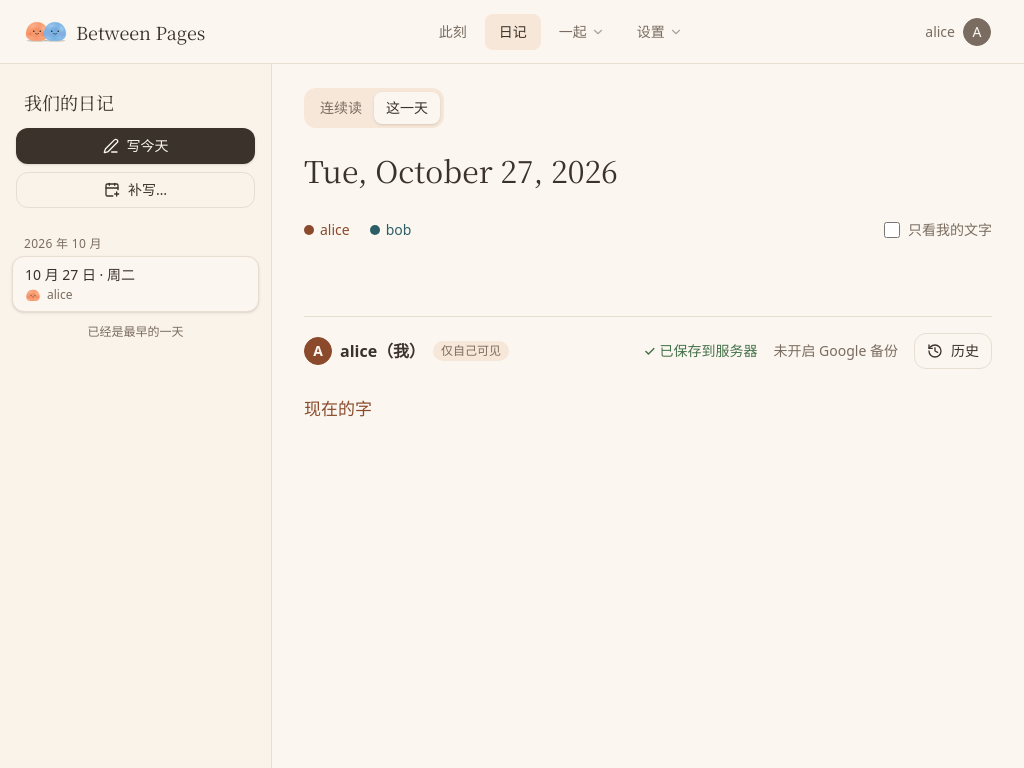
it: a diary in 这一天 › [adr:diary-collaboration-kernel#4] previews history read-only and returns to the untouched current text
Check: the text "已保存到服务器" is shown, box [644,341,758,361]
Click the button "历史" at point(953, 351), box [914,333,992,369]
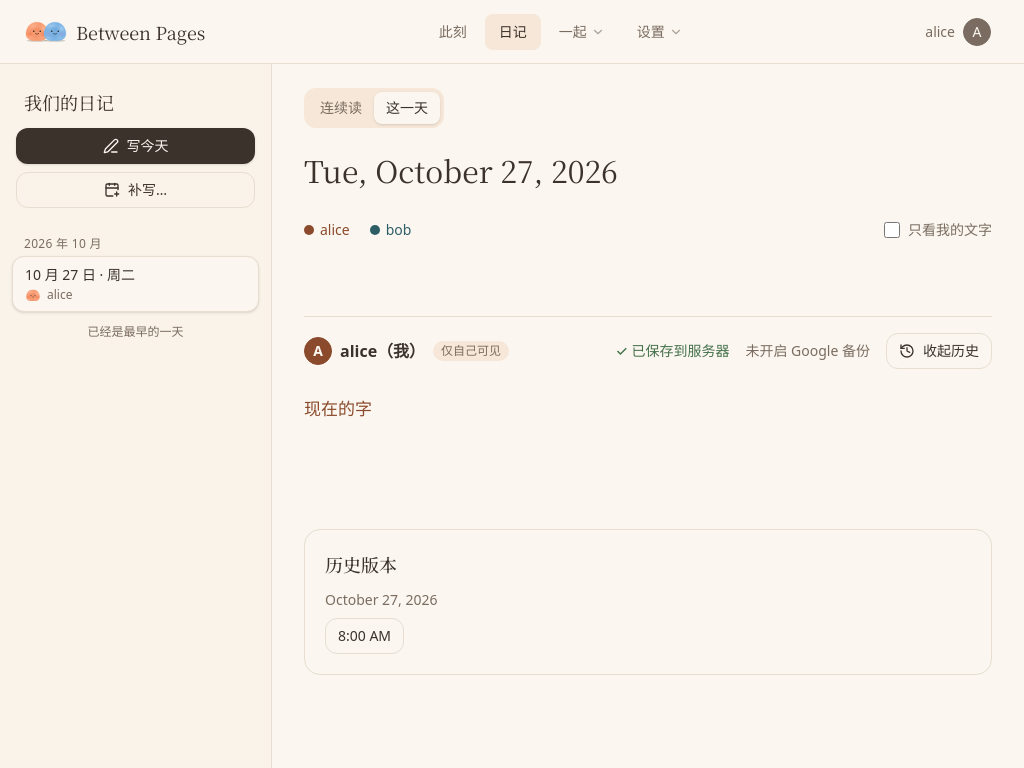
Click the button "8:00 AM" at point(365, 636), box [325,618,404,654]
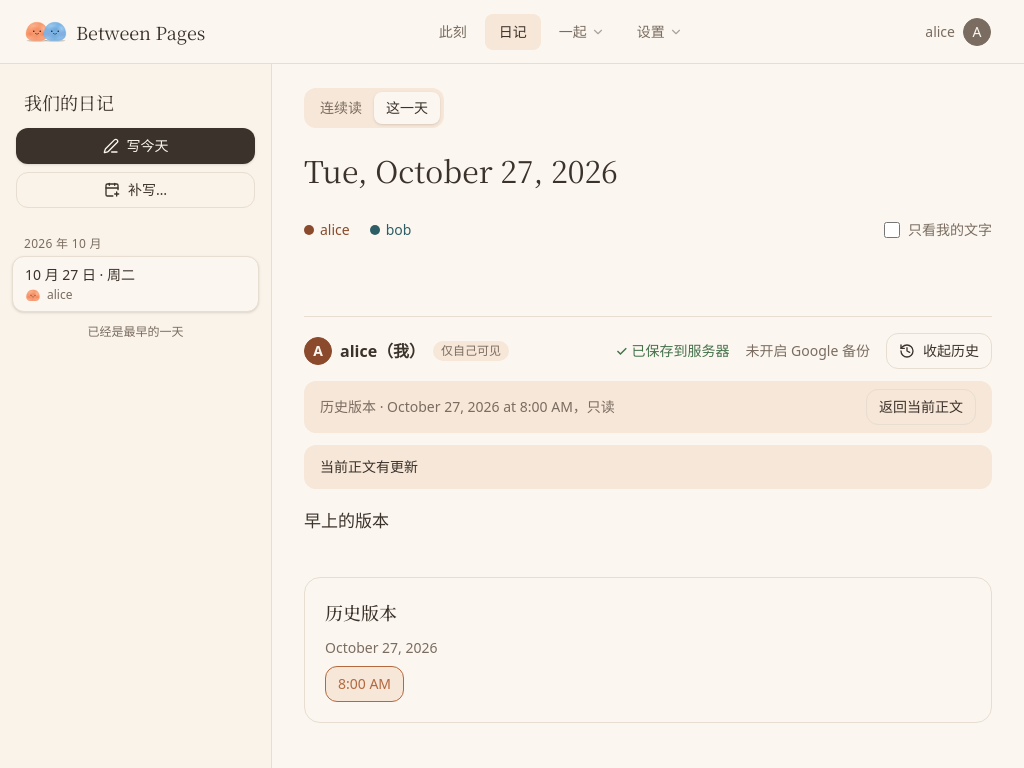
Check: the field is gone
Check: the text "当前正文有更新" is shown, box [304,445,992,489]
Check: the text "早上的版本" is shown, box [304,509,389,532]
Click the button "返回当前正文" at point(921, 407), box [866,389,976,425]
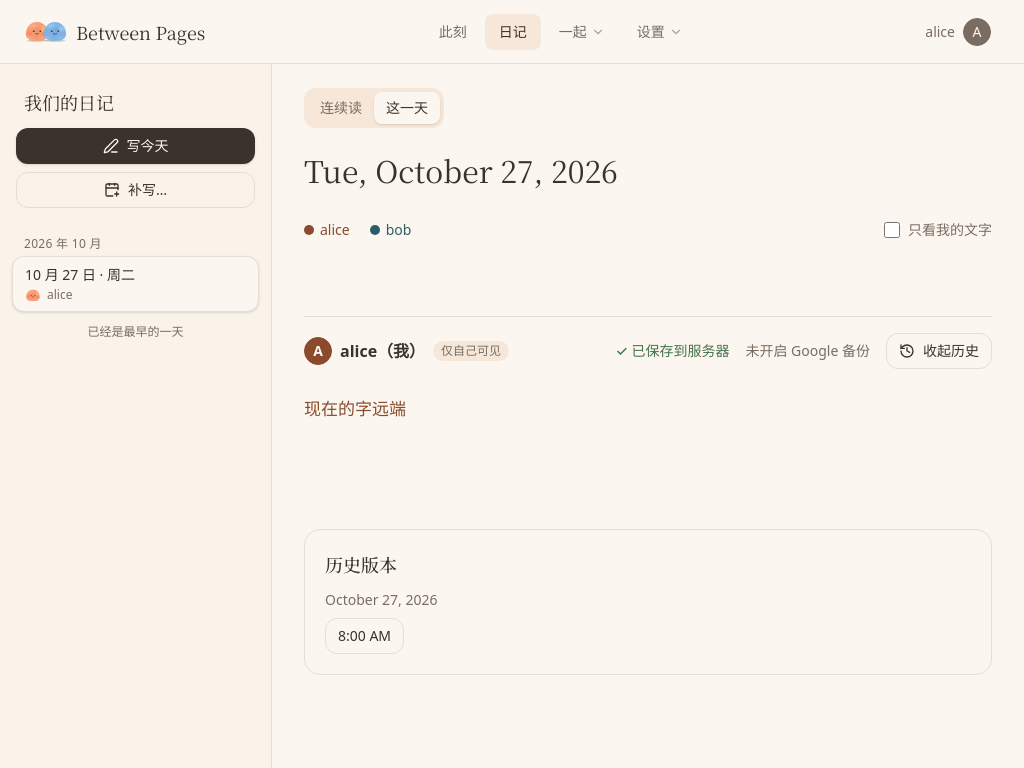
Check: the field shows "现在的字", box [304,397,406,420]
Check: the field shows "远端", box [304,397,406,420]
